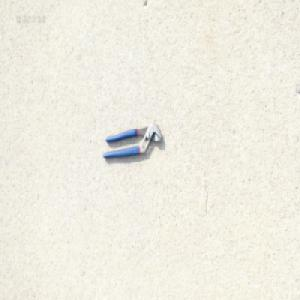Pliers: (102, 122, 163, 160)
